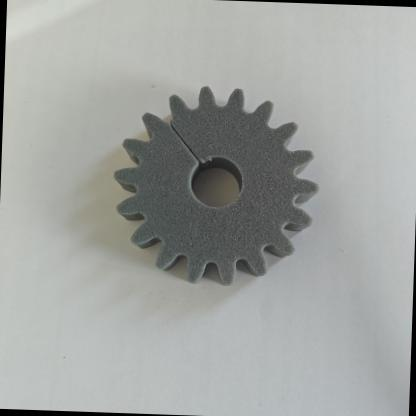defect: (126, 90, 234, 182)
gear: (100, 74, 331, 300)
